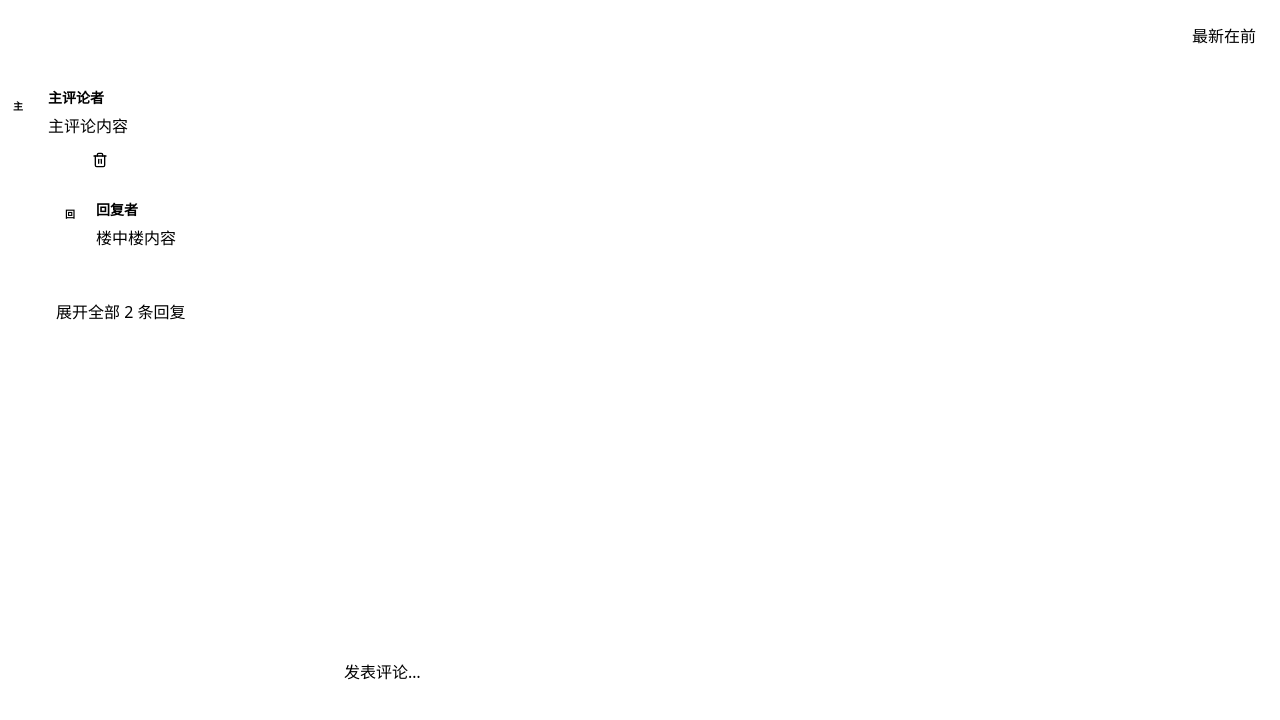
MomentComments › 空评论在客户端拦截，选择无效图片也不会进入预览
Click the button "发表评论…" at (382, 672), box 328,648 -> 824,696
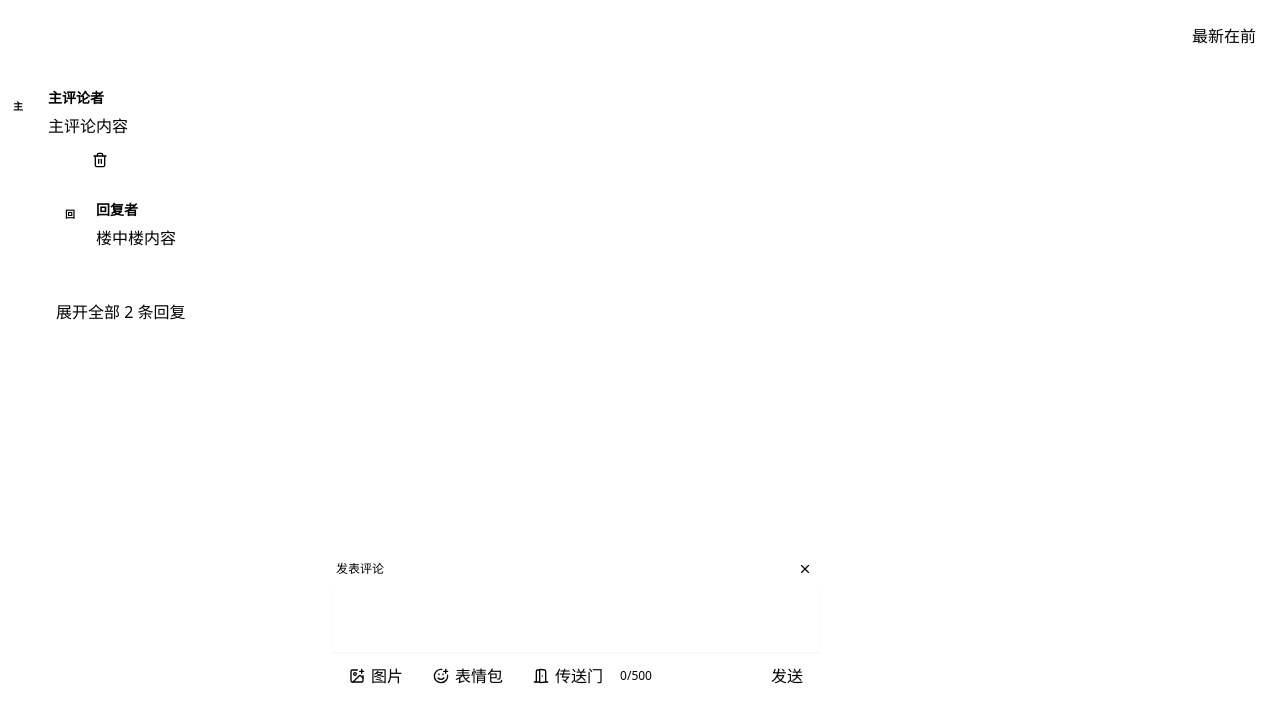
Click the button "发送" at (787, 676), box 758,660 -> 816,692
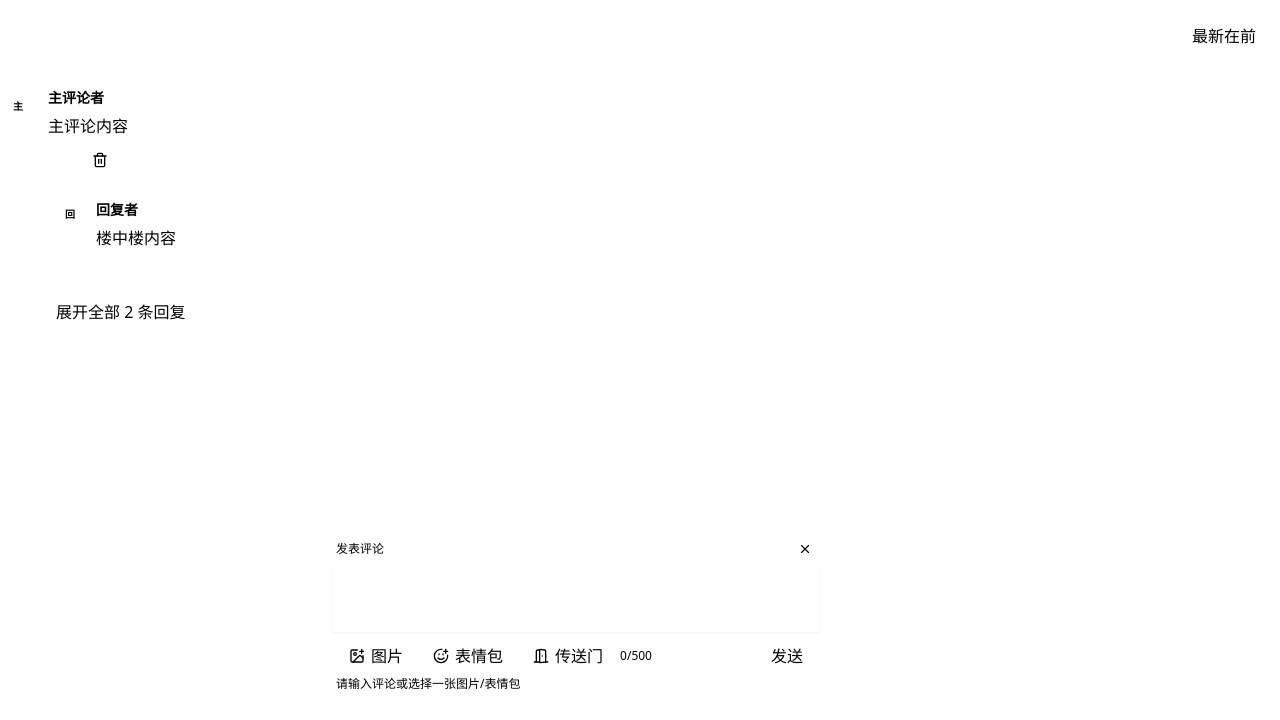
Now the text "请输入评论或选择一张图片/表情包" is shown, box 336,675 -> 520,692
